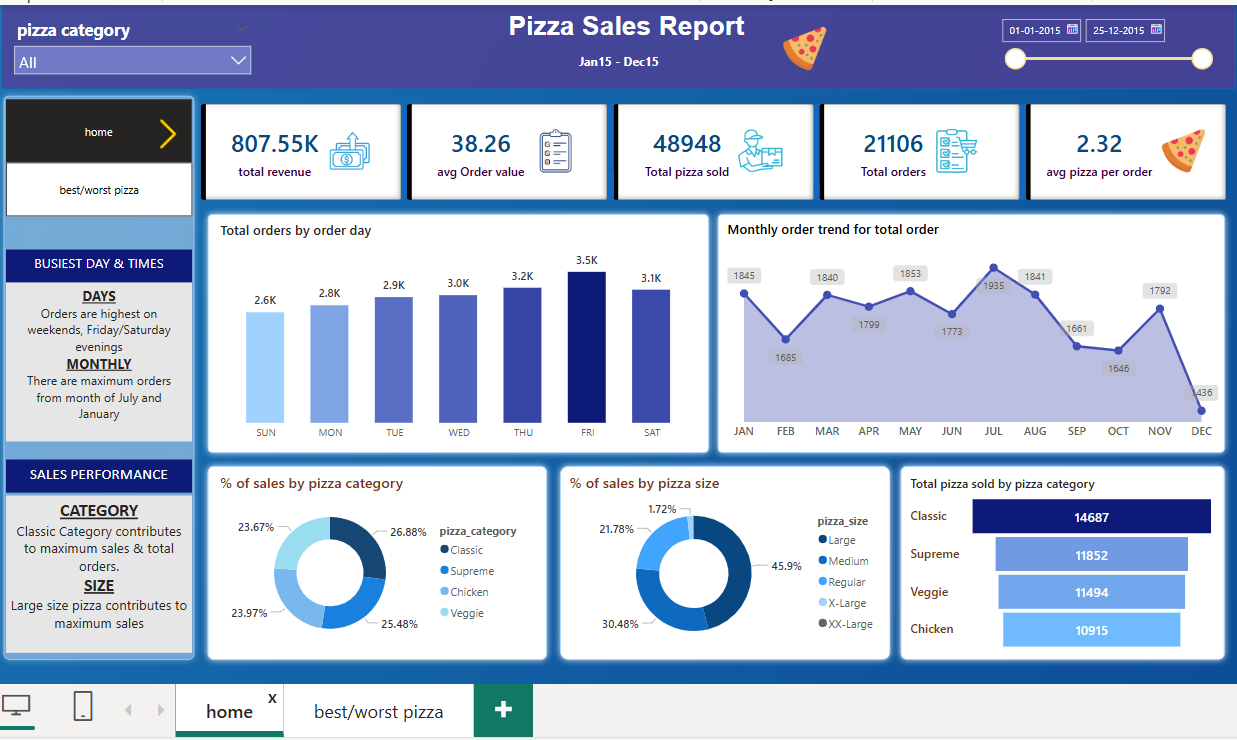

Layout of this report page (visuals, bound fields, positions):
{"tool":"powerbi","page":{"name":"home","canvas":[1500,820],"ordinal":0},"visuals":[{"type":"shape","box":[5.5,0,1490.9,101.8],"z":0},{"type":"shape","box":[862.3,244.6,628.6,304.3],"z":1000},{"type":"shape","box":[0,101.4,246.4,697.4],"z":2000},{"type":"cardVisual","fields":{"Data":["zomato pizza_sales.total revenue","zomato pizza_sales.avg Order value","zomato pizza_sales.Total pizza sold","zomato pizza_sales.Total orders","zomato pizza_sales.avg pizza per order"]},"box":[240.9,114.1,1248.1,126.8],"z":3000},{"type":"textbox","box":[592.4,1.8,335.1,52.5],"z":4000},{"type":"textbox","box":[679.3,52.5,143.1,38],"z":5000},{"type":"image","box":[922.1,19.9,106.9,65.2],"z":6000},{"type":"shape","box":[246.4,244.6,621.4,304.3],"z":7000},{"type":"columnChart","fields":{"Category":["zomato pizza_sales.order day"],"Y":["zomato pizza_sales.Total orders"]},"box":[264.5,260.9,586.9,273.5],"z":8000},{"type":"areaChart","title":"Monthly order trend for total order","fields":{"Y":["zomato pizza_sales.Total orders"],"Category":["zomato pizza_sales.order month"]},"box":[876.8,259,603.2,275.4],"z":9000},{"type":"shape","box":[246.4,548.9,425.7,250],"z":10000},{"type":"shape","box":[672.1,548.9,414.8,250],"z":11000},{"type":"shape","box":[1083.3,548.9,407.6,250],"z":12000},{"type":"donutChart","title":"% of sales by pizza category","fields":{"Category":["zomato pizza_sales.pizza_category"],"Y":["zomato pizza_sales.total revenue"]},"box":[264.5,565.2,384,217.4],"z":13000},{"type":"donutChart","title":"% of sales by pizza size","fields":{"Category":["zomato pizza_sales.pizza_size"],"Y":["zomato pizza_sales.total revenue"]},"box":[686.6,565.2,389.5,219.2],"z":14000},{"type":"funnel","title":"Total pizza sold by pizza category","fields":{"Category":["zomato pizza_sales.pizza_category"],"Y":["zomato pizza_sales.Total pizza sold"]},"box":[1097.8,567,378.6,217.4],"z":15000},{"type":"textbox","box":[10.9,295.3,224.6,39.9],"z":16000},{"type":"textbox","box":[10.9,335.1,224.6,192],"z":17000},{"type":"textbox","box":[10.9,548.9,224.6,39.9],"z":18000},{"type":"textbox","box":[10.9,592.4,224.6,190.2],"z":19000},{"type":"slicer","fields":{"Values":["zomato pizza_sales.pizza_category"]},"box":[10.9,10.9,306.1,87],"z":20000},{"type":"slicer","fields":{"Values":["zomato pizza_sales.order_date"]},"box":[1201,7.2,279,85.1],"z":21000},{"type":"pageNavigator","box":[10.9,114.1,224.6,76.1],"z":22000},{"type":"pageNavigator","box":[10.9,190.9,225.5,65.5],"z":23000},{"type":"image","box":[183.6,121.8,47.3,69.1],"z":24000}]}

Visuals, with their boxes on the page's 1500x820 design canvas (x1, y1, x2, y2). These are canvas units, not pixel positions in the 1237x740 screenshot, which may show the page scaled, cropped or inside an application window:
shape: (6, 0, 1496, 102)
shape: (862, 245, 1491, 549)
shape: (0, 101, 246, 799)
cardVisual - zomato pizza_sales.total revenue x zomato pizza_sales.avg Order value: (241, 114, 1489, 241)
textbox: (592, 2, 928, 54)
textbox: (679, 52, 822, 90)
image: (922, 20, 1029, 85)
shape: (246, 245, 868, 549)
columnChart - zomato pizza_sales.order day x zomato pizza_sales.Total orders: (264, 261, 851, 534)
"Monthly order trend for total order" areaChart: (877, 259, 1480, 534)
shape: (246, 549, 672, 799)
shape: (672, 549, 1087, 799)
shape: (1083, 549, 1491, 799)
"% of sales by pizza category" donutChart: (264, 565, 648, 783)
"% of sales by pizza size" donutChart: (687, 565, 1076, 784)
"Total pizza sold by pizza category" funnel: (1098, 567, 1476, 784)
textbox: (11, 295, 236, 335)
textbox: (11, 335, 236, 527)
textbox: (11, 549, 236, 589)
textbox: (11, 592, 236, 783)
slicer - zomato pizza_sales.pizza_category: (11, 11, 317, 98)
slicer - zomato pizza_sales.order_date: (1201, 7, 1480, 92)
pageNavigator: (11, 114, 236, 190)
pageNavigator: (11, 191, 236, 256)
image: (184, 122, 231, 191)
